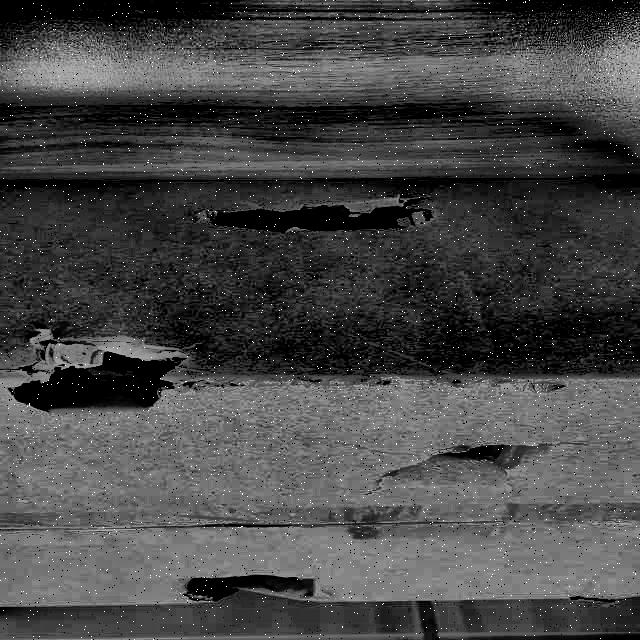box: (1, 159, 640, 614)
hole: (6, 332, 218, 424), (198, 196, 445, 238), (179, 571, 323, 600), (435, 443, 517, 467)
